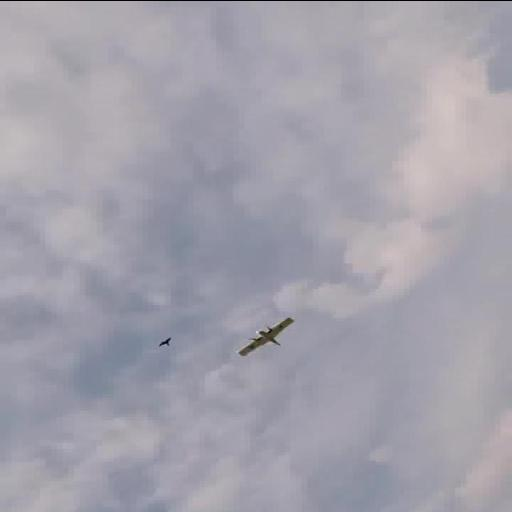uav: (230, 314, 304, 357)
